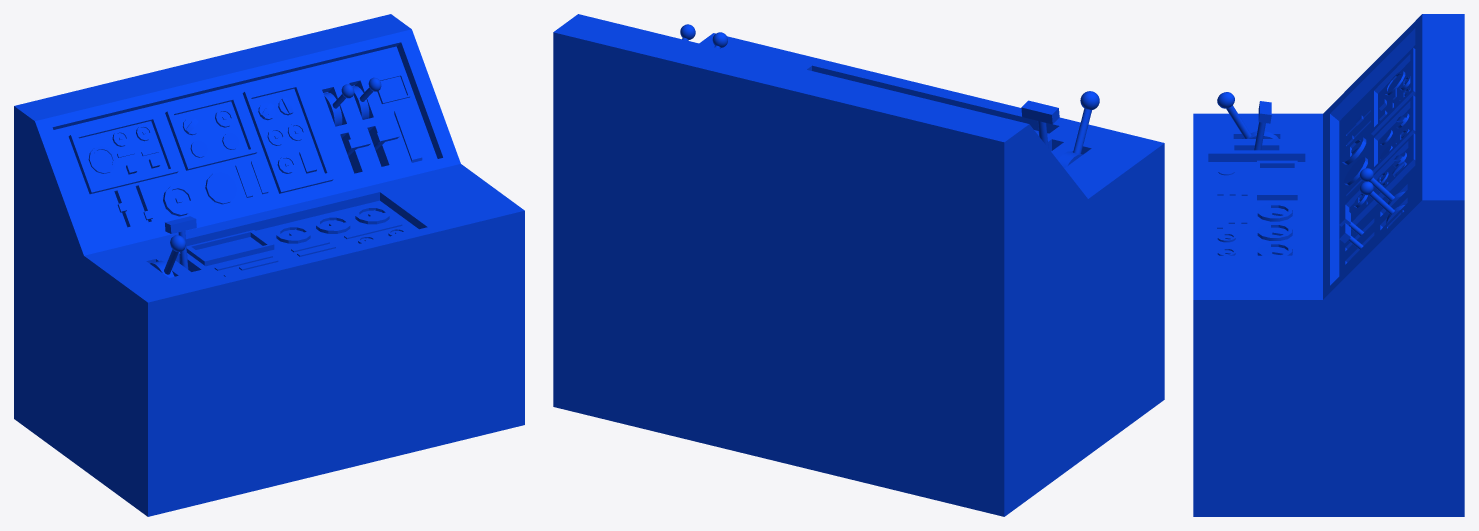
File: mshControlPanel.fbx
3 views of the same model, side by side, from view 1: azimuth 30°, elevation 25°; view 2: azimuth 150°, elevation 25°; view 3: azimuth 270°, elevation 25° (orthographic). The views are drawn at different scales.
Parts seen in each view (by area): view 1: PanelControl_geo3; view 2: PanelControl_geo3; view 3: PanelControl_geo3.
Boxes of the visible parts, x1=… form: PanelControl_geo3: x1=14, y1=14, x2=524, y2=516; PanelControl_geo3: x1=553, y1=14, x2=1164, y2=516; PanelControl_geo3: x1=1193, y1=14, x2=1464, y2=516.
Bounding box in the file's own units: 2.28 × 1.81 × 1.41.
